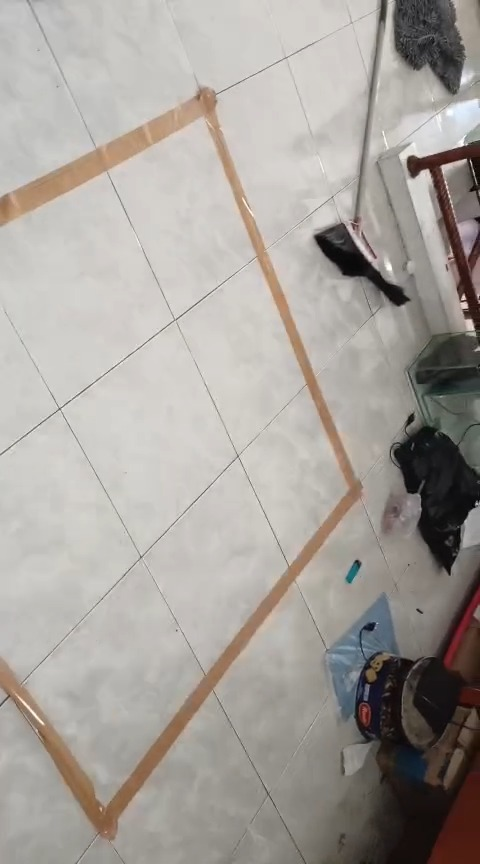floor marking: (0, 87, 361, 837)
